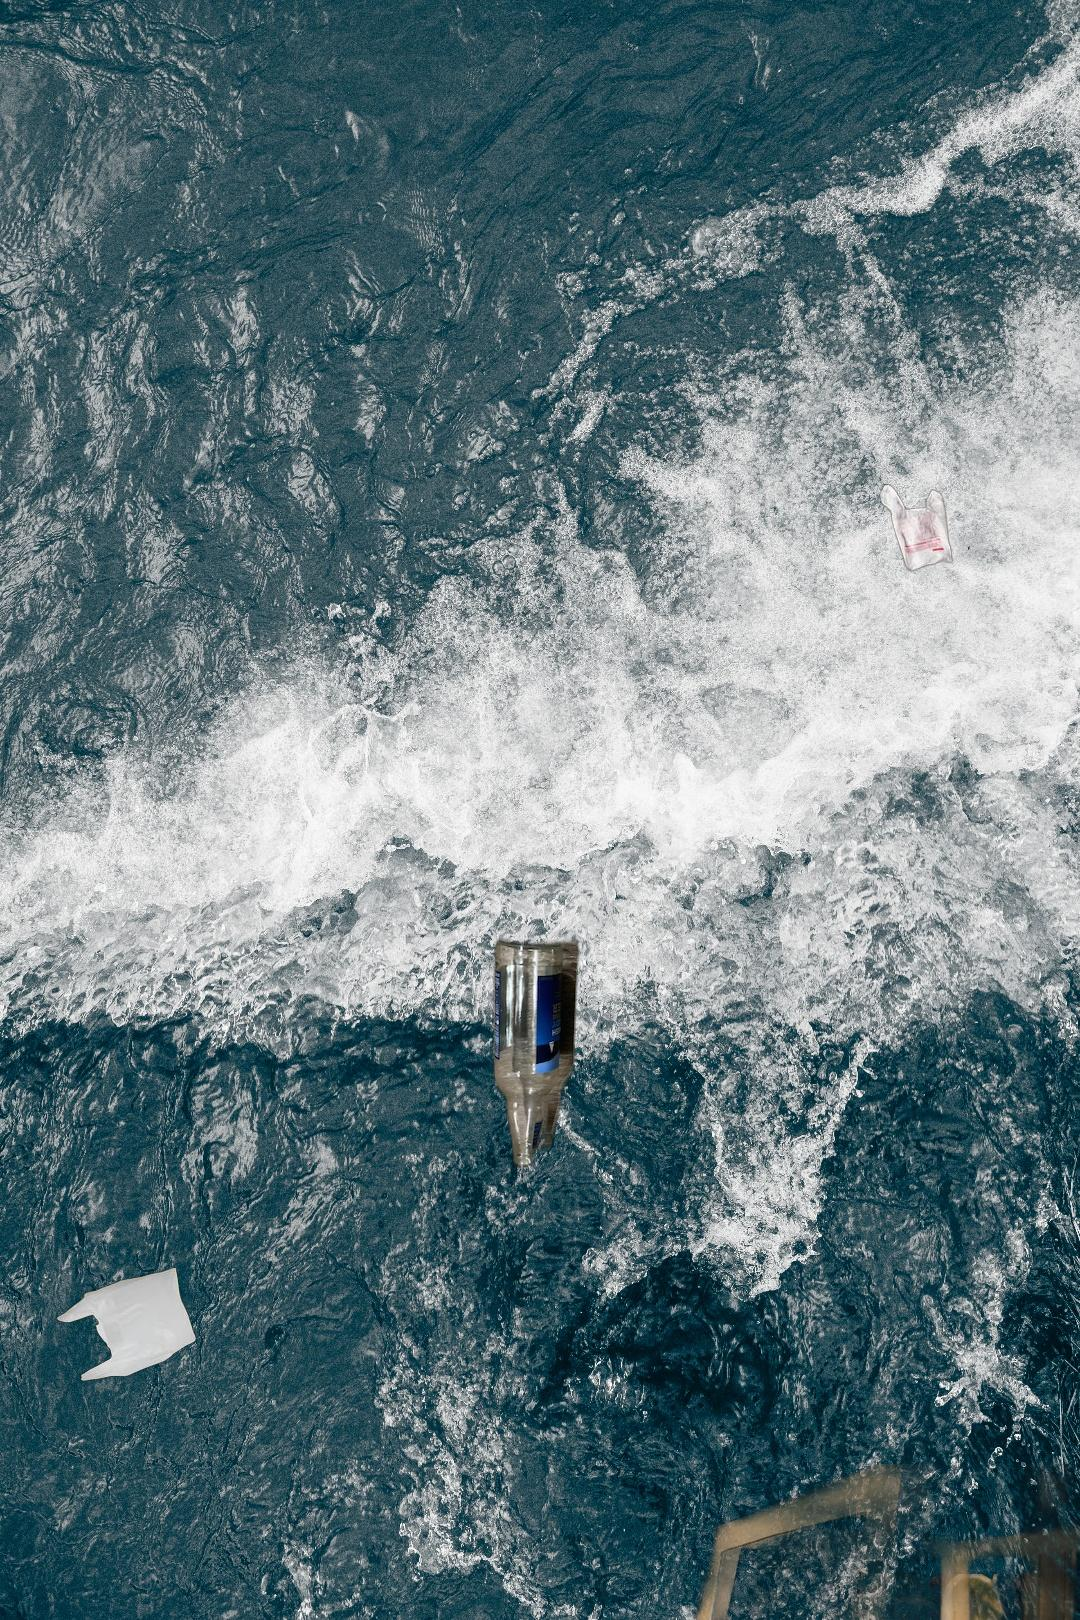biological: (898, 1574, 1080, 1620)
glass: (489, 931, 585, 1175)
plastic-bag: (54, 1264, 199, 1384), (879, 482, 955, 574)
trashbox-cardboard: (595, 1465, 1080, 1620)
